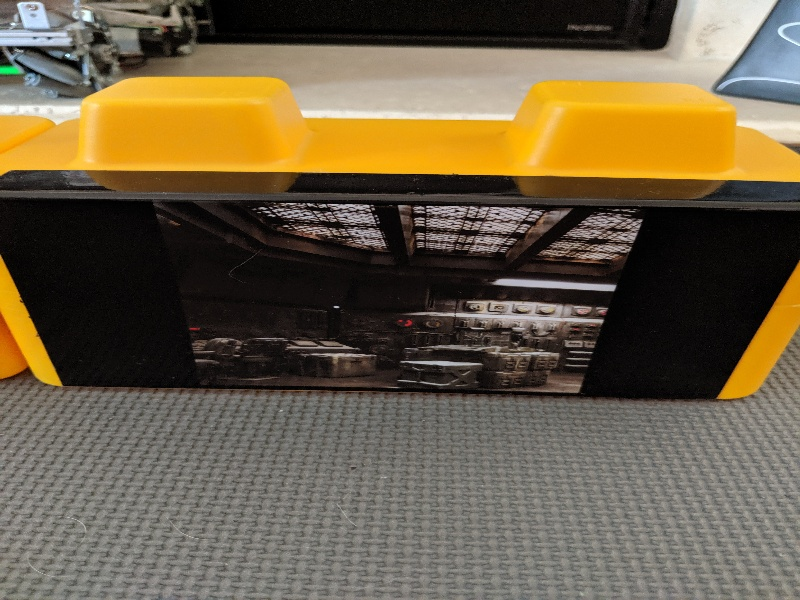Skystone: (1, 164, 776, 399)
